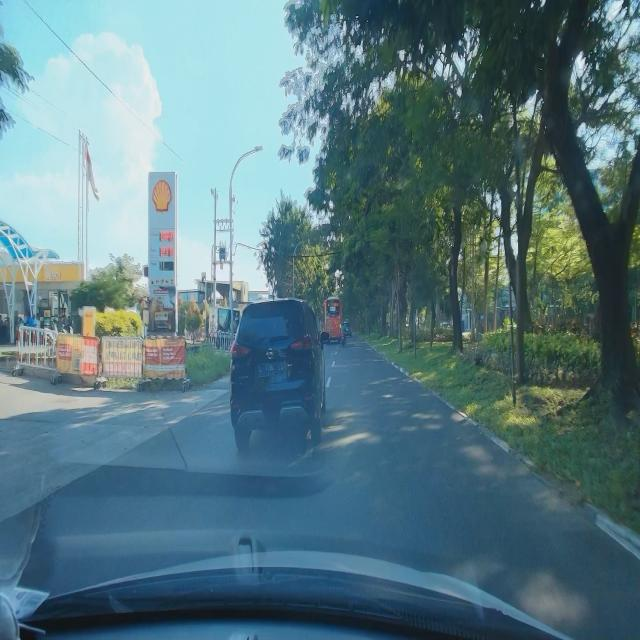bus: (325, 295, 342, 344)
car: (229, 298, 327, 452)
license-plate: (258, 361, 284, 377)
